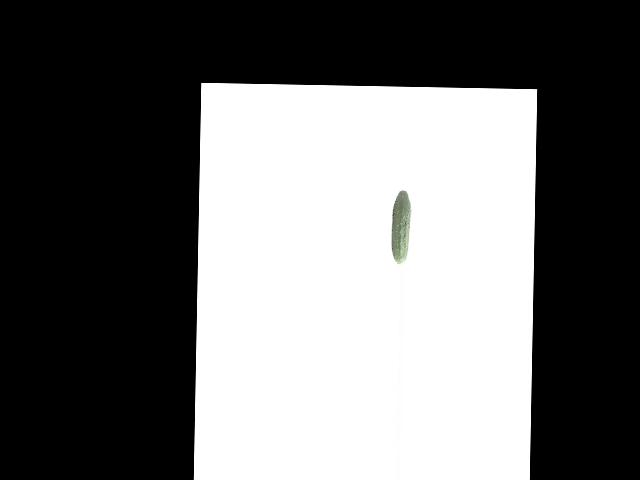cucumber: (391, 189, 411, 264)
